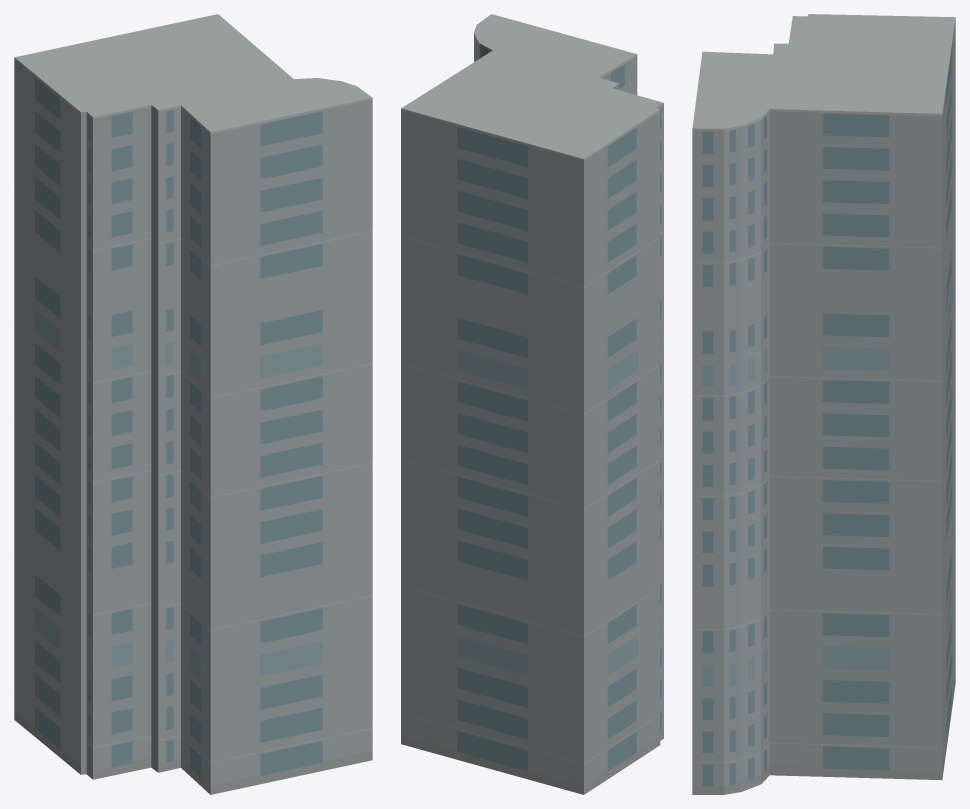
Rendered from survey-upis-32881393.glb.
3 renders of one model, left to right at view 1: azimuth 30°, elevation 25°; view 2: azimuth 150°, elevation 25°; view 3: azimuth 270°, elevation 25°, orthographic. The views are drawn at different scales.
Parts seen in each view (by area): view 1: survey-upis-32881393.tmp; view 2: survey-upis-32881393.tmp; view 3: survey-upis-32881393.tmp.
Boxes of the visible parts, x1,y1,x2,y2 form: survey-upis-32881393.tmp: (14, 14, 372, 794); survey-upis-32881393.tmp: (401, 14, 663, 794); survey-upis-32881393.tmp: (692, 14, 955, 794).
Bounding box in the file's own units: 28.01 × 75.8 × 27.16.
